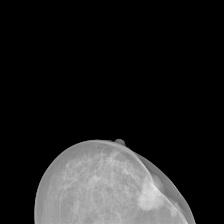Mass_1: (164, 53, 220, 95)
Mass_2: (202, 43, 220, 59)
